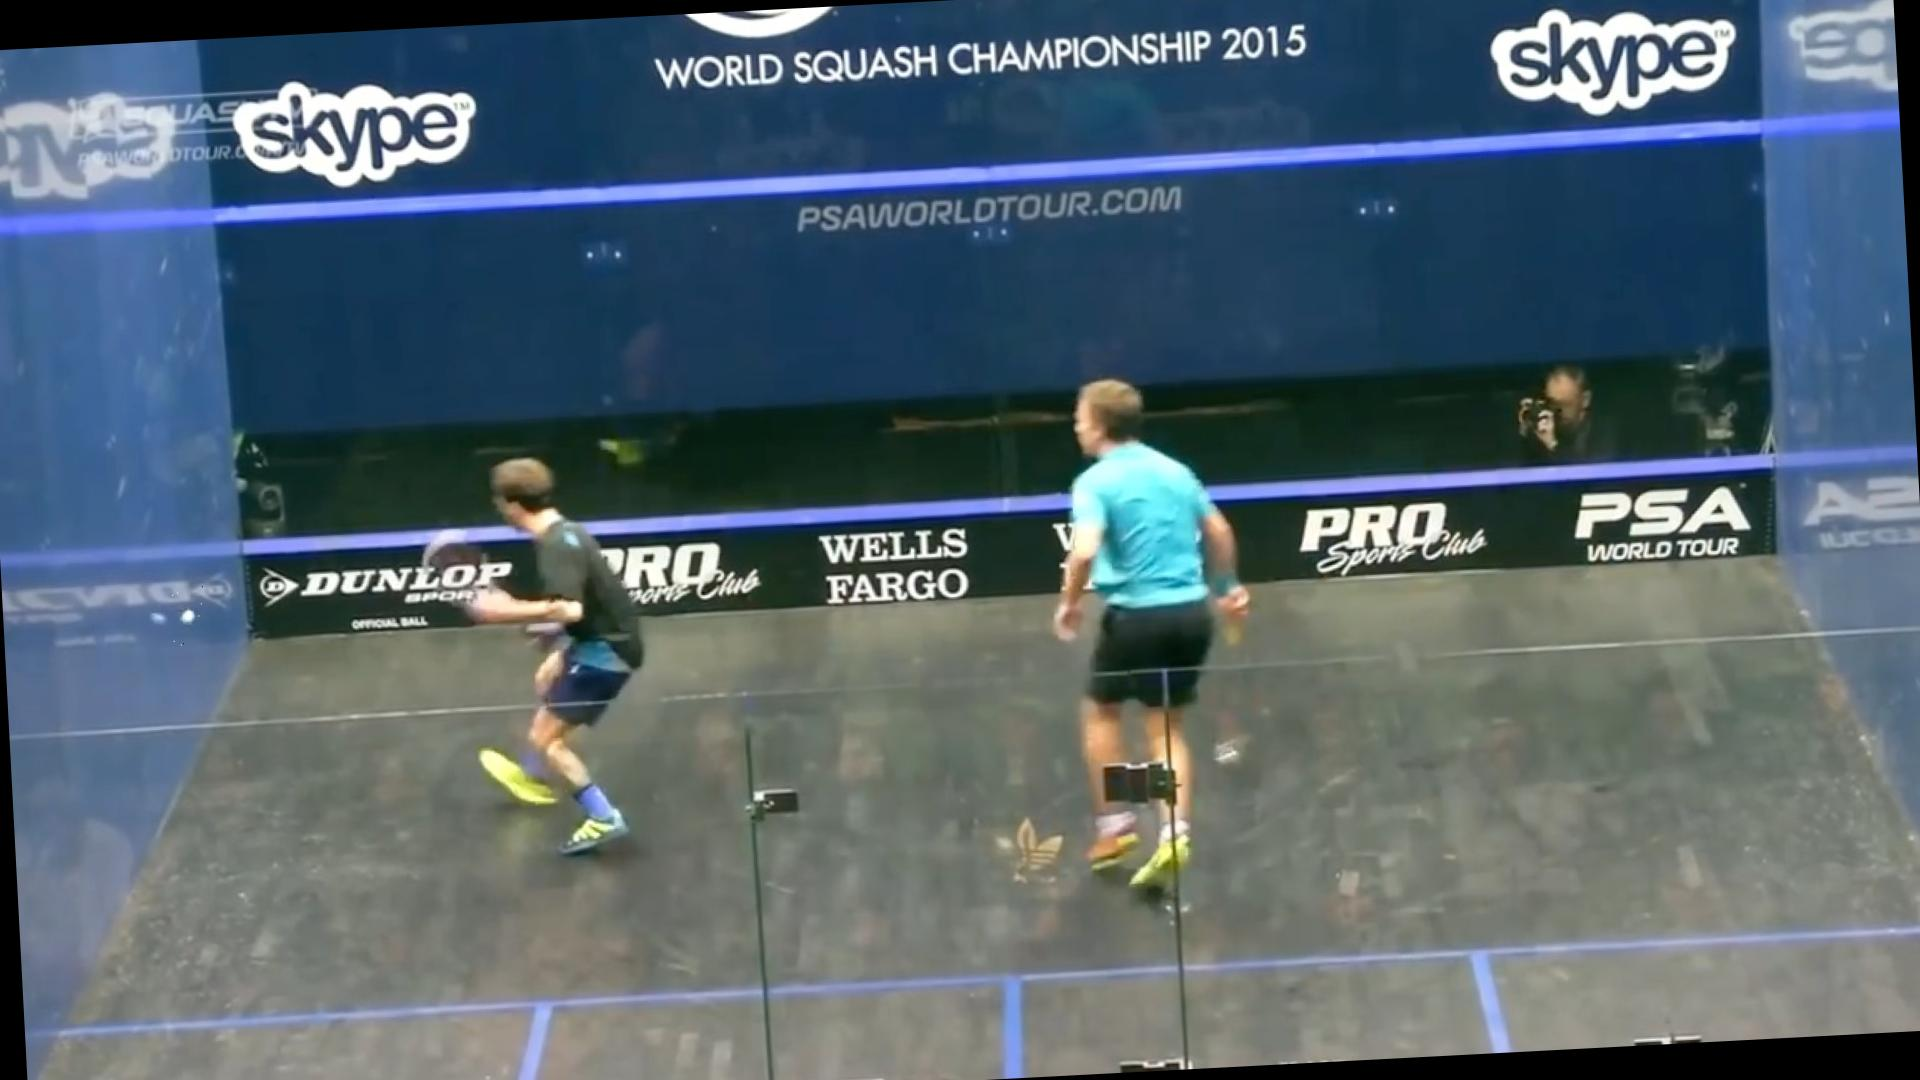Squash-Ball: (165, 582, 211, 647)
